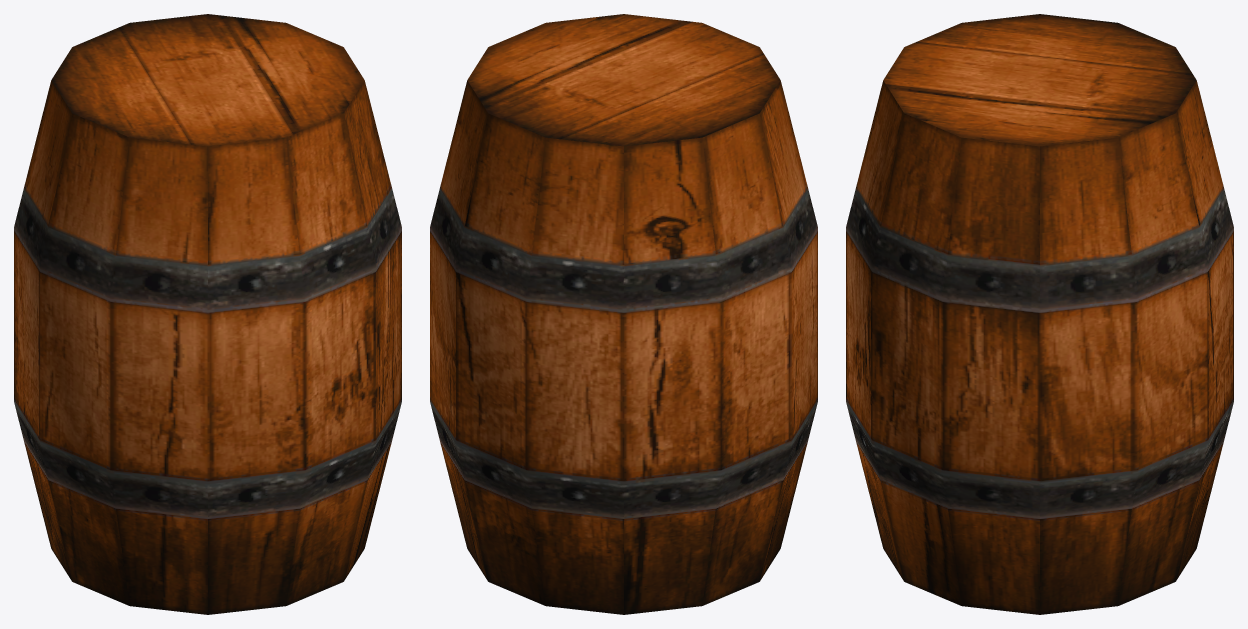
The model's file is barrel.obj.
The picture shows the model from 3 angles, left to right: view 1: azimuth 30°, elevation 25°; view 2: azimuth 150°, elevation 25°; view 3: azimuth 270°, elevation 25°; orthographic projection.
Parts seen in each view (by area): view 1: barrel1; view 2: barrel1; view 3: barrel1.
Part boxes in pixels (x1,y1,x2,y2): barrel1: (14,14,401,614); barrel1: (430,14,817,614); barrel1: (846,14,1233,614).
Size of the model in its own units: 1.93 by 2.57 by 1.93.
Materials: 1 (1 with a texture image).
